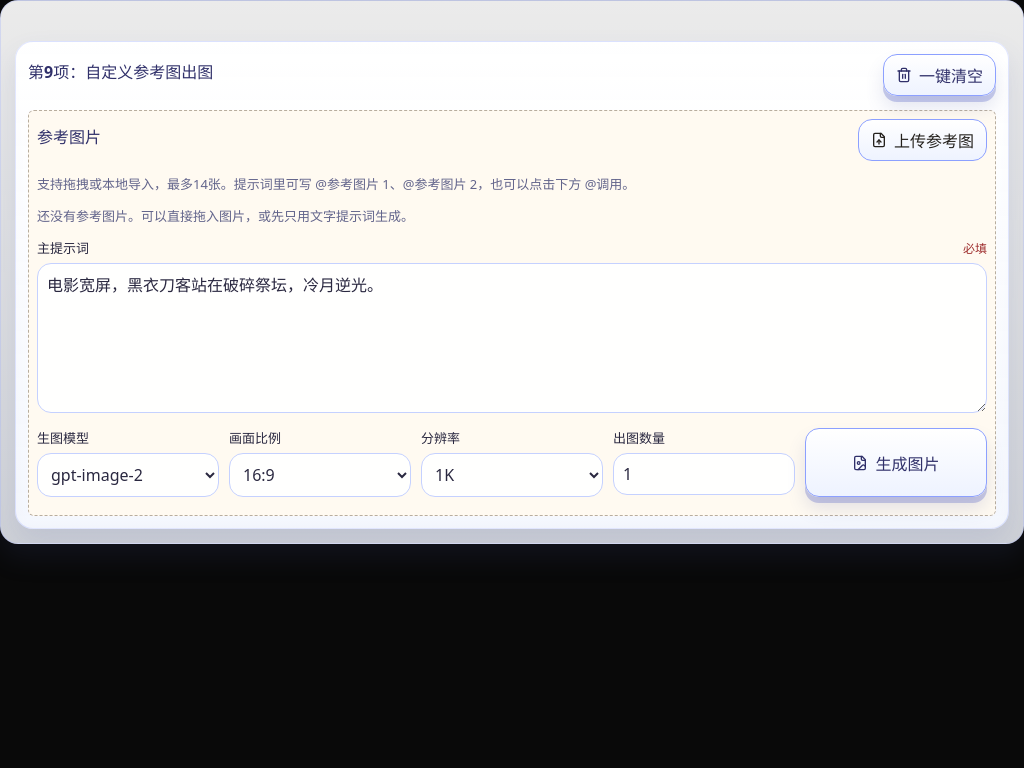
Scenario: Workspace asset extraction image generation › allows submitting a second custom-image generation job while the first is still running
Click the button "生成图片" at (896, 462), box x1=805 y1=428 x2=987 y2=497
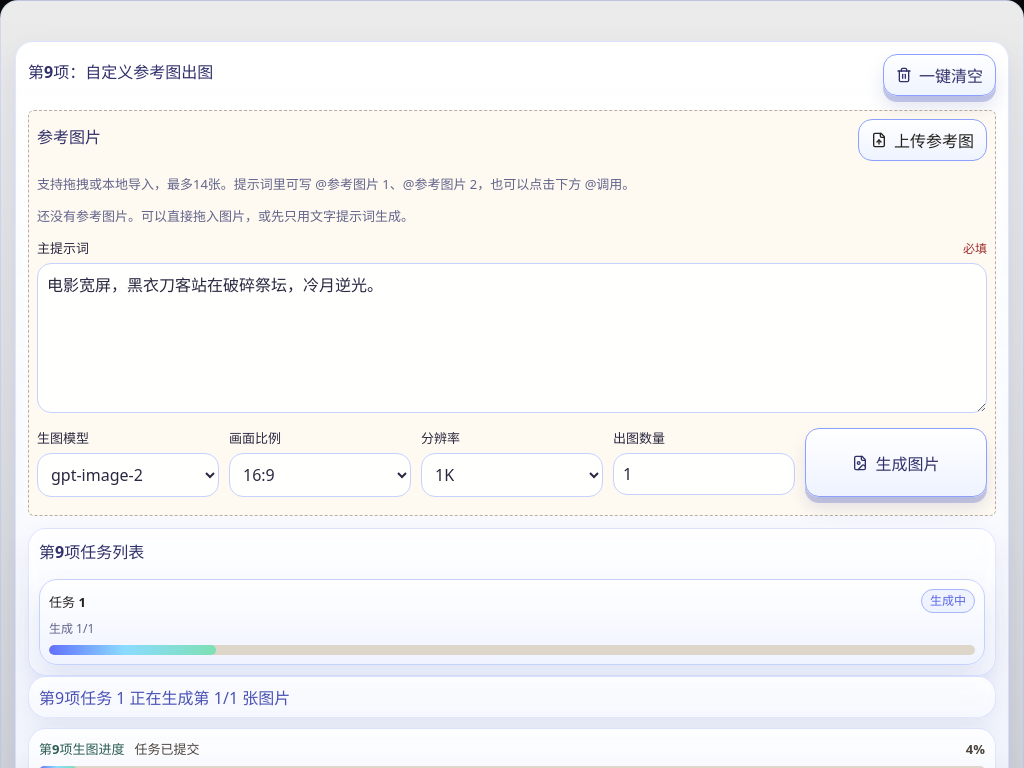
Click the button "生成图片" at (896, 462), box x1=805 y1=428 x2=987 y2=497
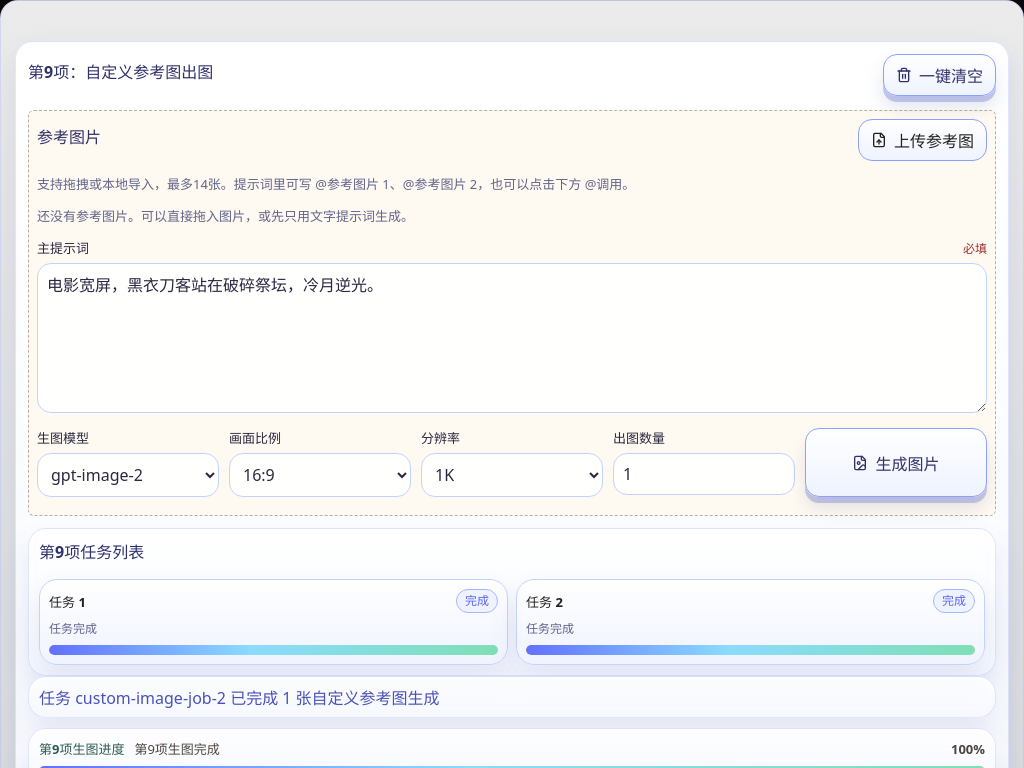
Result: the element labelled "第9项任务列表" is shown at x1=28 y1=528 x2=996 y2=676
Result: the text "任务 1" is shown at x1=49 y1=592 x2=86 y2=610
Result: the text "任务 2" is shown at x1=526 y1=592 x2=563 y2=610
